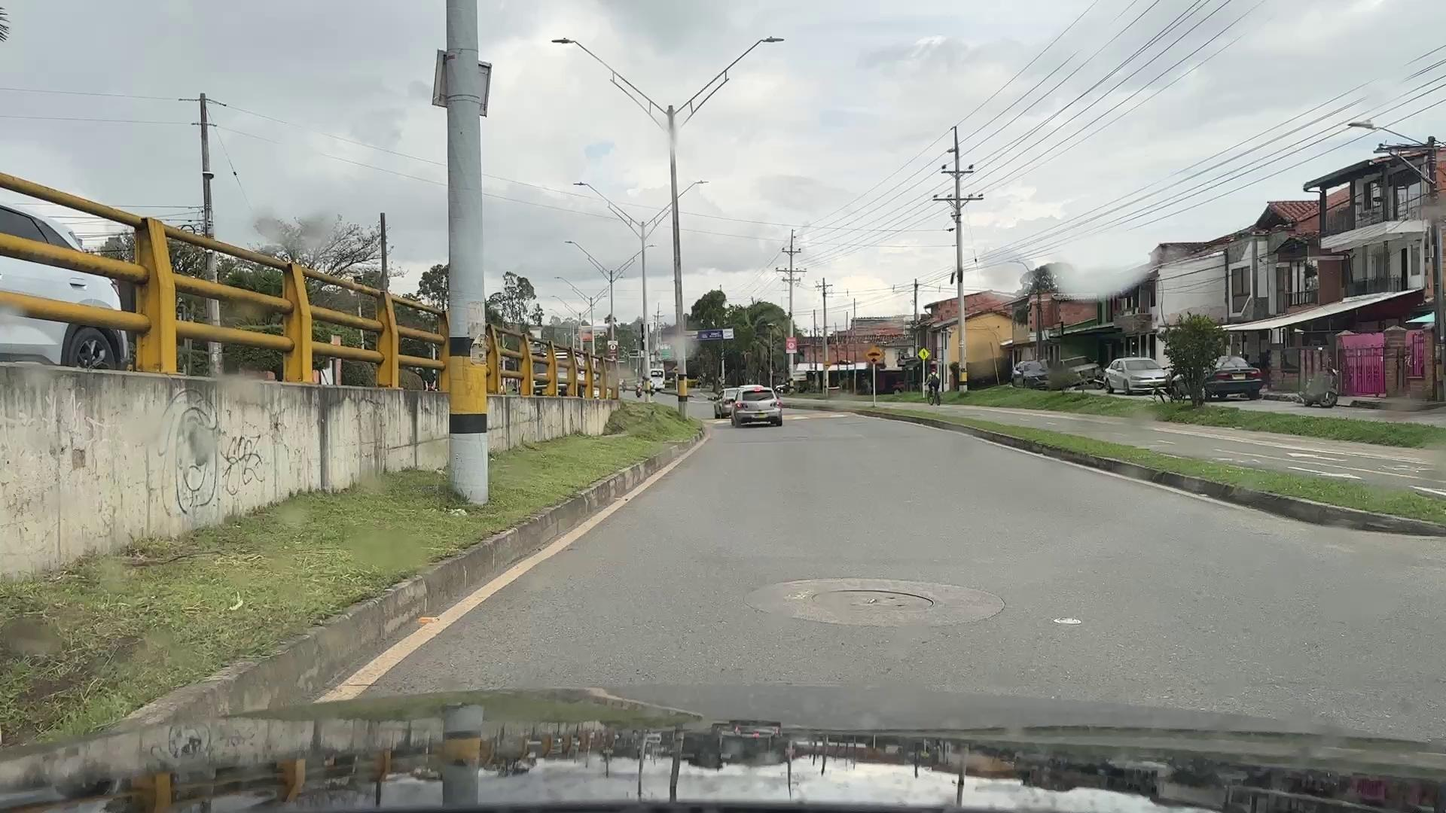registro: (812, 590, 933, 612)
